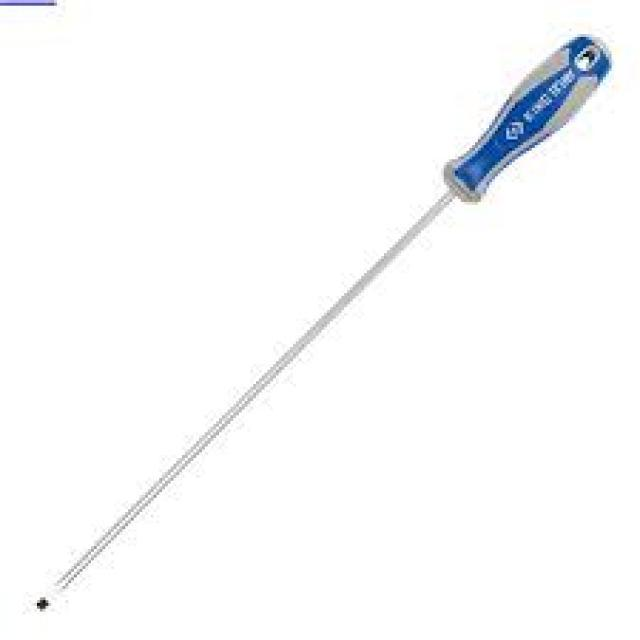screwdriver: (36, 31, 614, 614)
